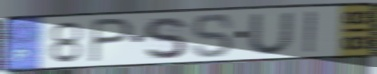8: (48, 20, 84, 64)
I: (303, 9, 318, 54)
P: (87, 16, 135, 64)
S: (142, 16, 189, 61), (191, 12, 235, 60)
U: (246, 10, 295, 56)
